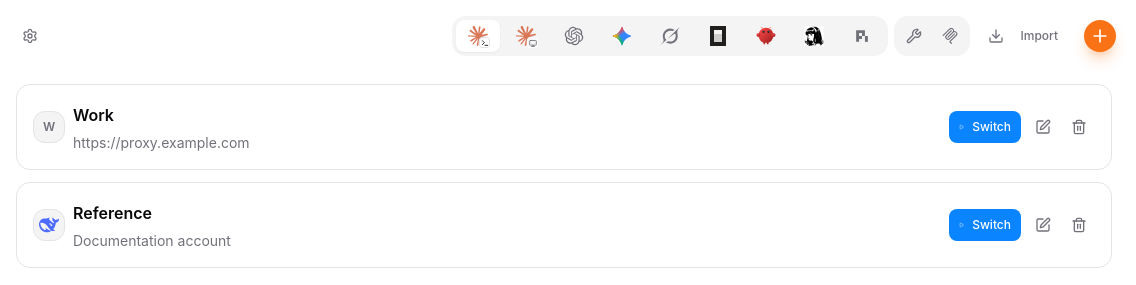
App › searches provider presentation fields with the full-app shortcut
Expected: the heading "Work" is shown, 73,107 -> 114,123
Type keys "{Control>}f{/Control}"
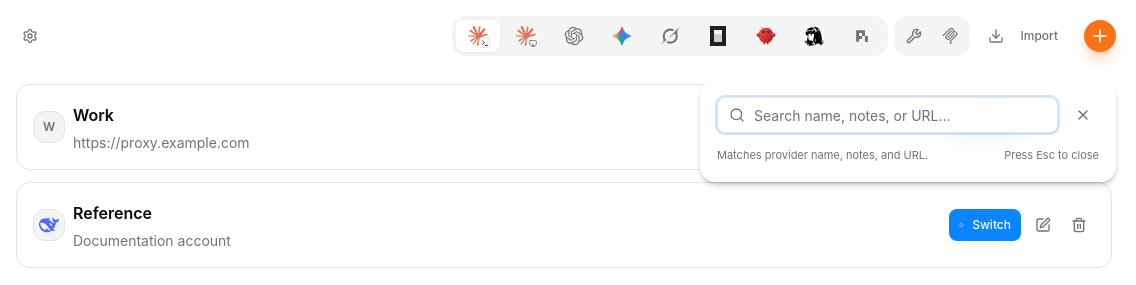
Type "documentation" into the field named "Search providers" at (888, 115), box 717,97 -> 1058,133
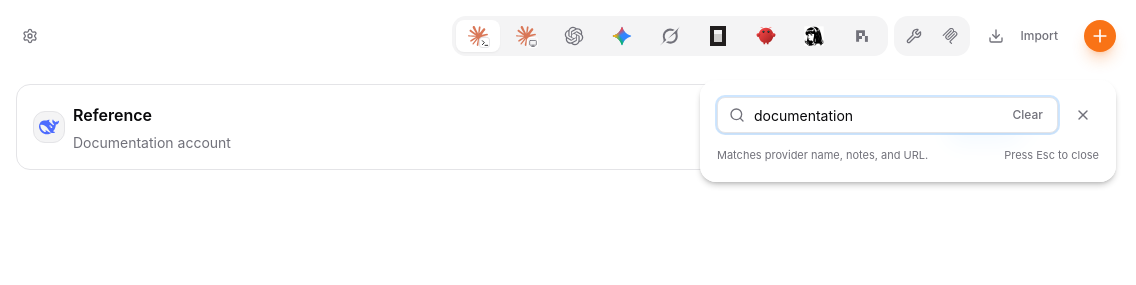
Expected: the heading "Reference" is shown, 73,107 -> 152,123
Result: the heading "Work" is gone
